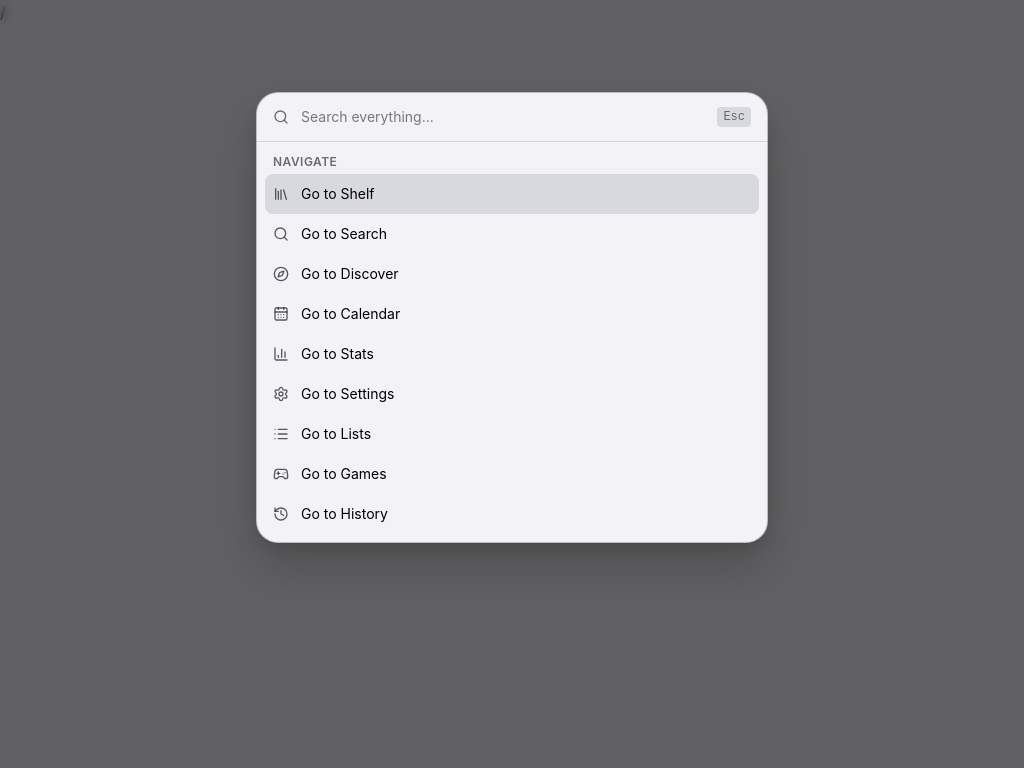
CommandPalette › never points at a row that isn't rendered
Type "se" into the dropdown labelled "Search everything" at {"x": 503, "y": 117}, box [301,107,705,127]
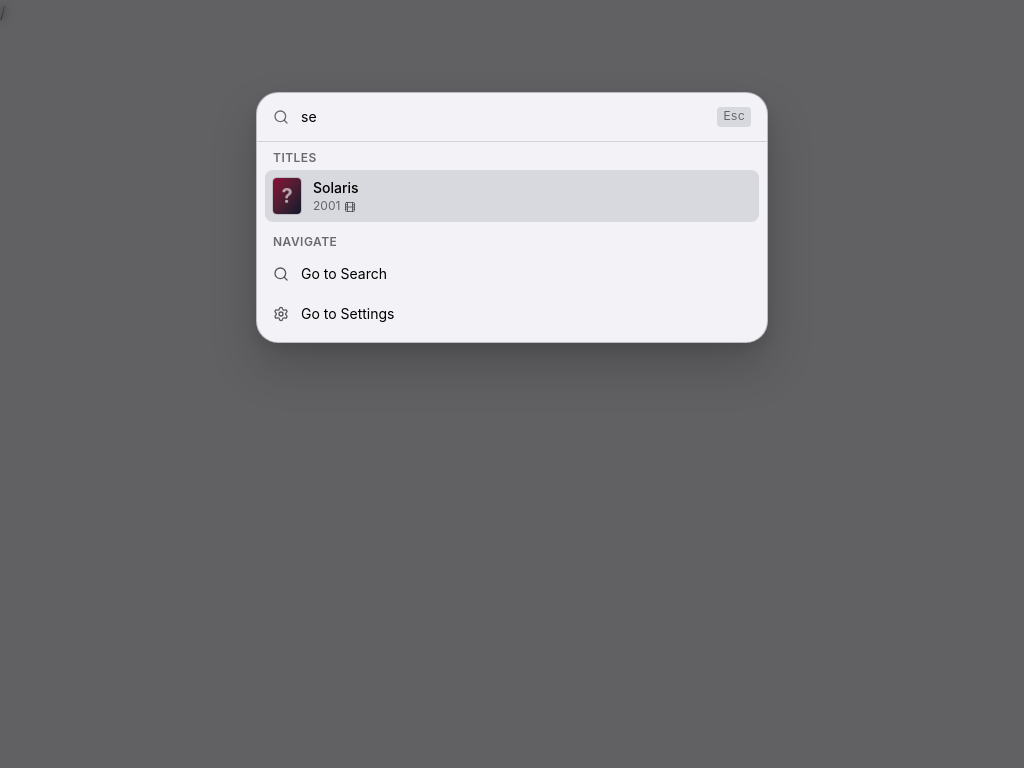
Expected: the option "? Solaris 2001" is shown, [265,170,759,222]
Type "a" into the dropdown named "Search everything" at {"x": 503, "y": 117}, box [301,107,705,127]
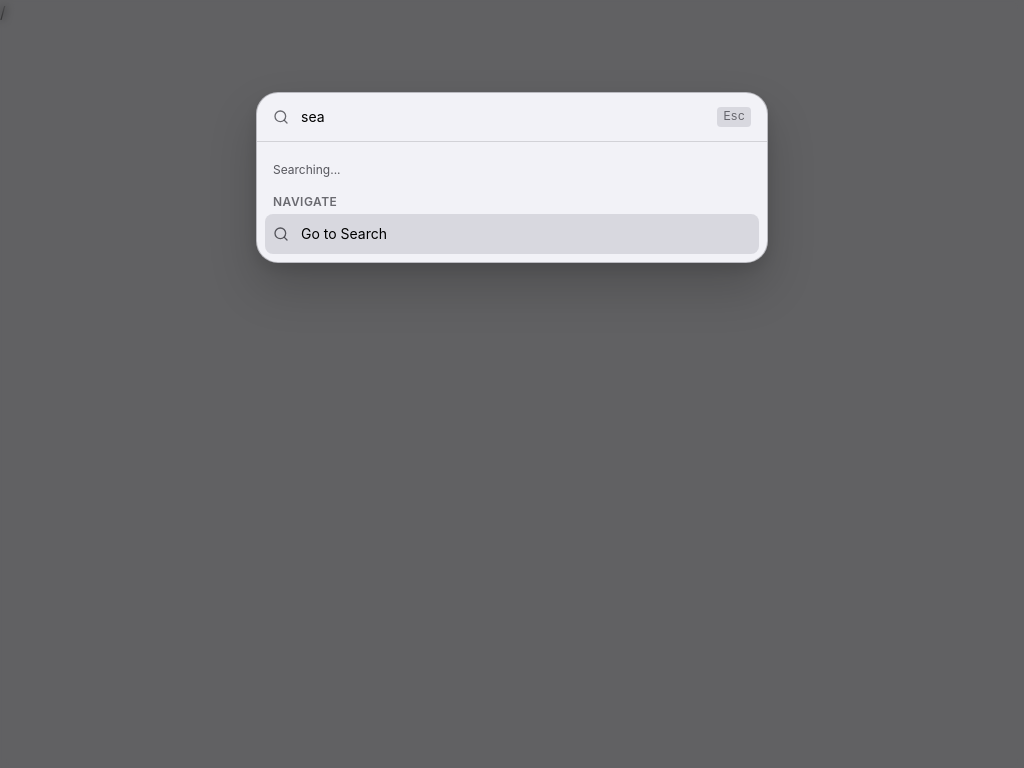
Expected: the text "Searching..." is shown, [273,162,340,177]
Expected: the option "Solaris" is gone
Press Arrowdown
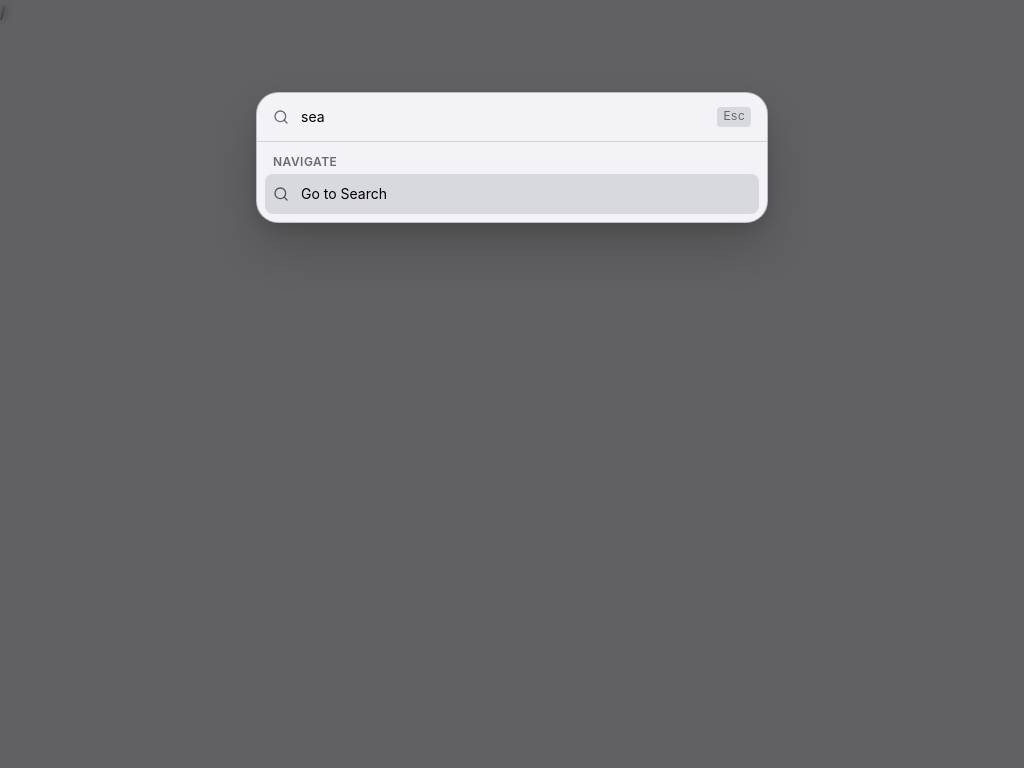
Expected: the text "Searching..." is gone
